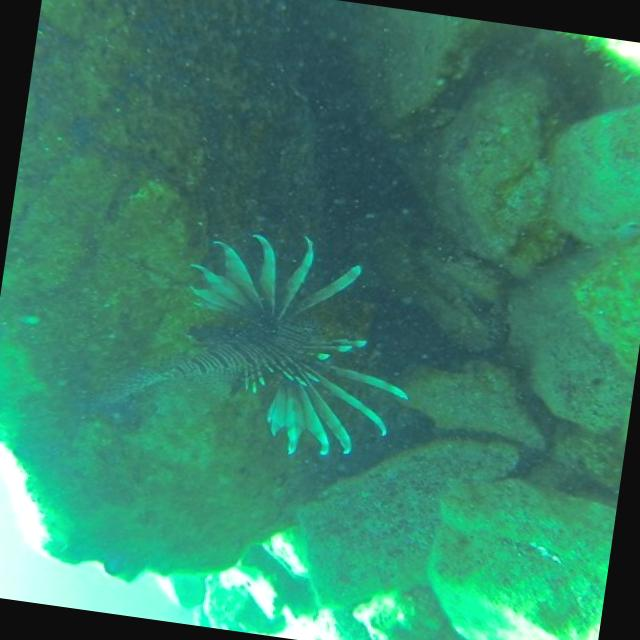Aslan Baligi: (80, 207, 428, 479)
